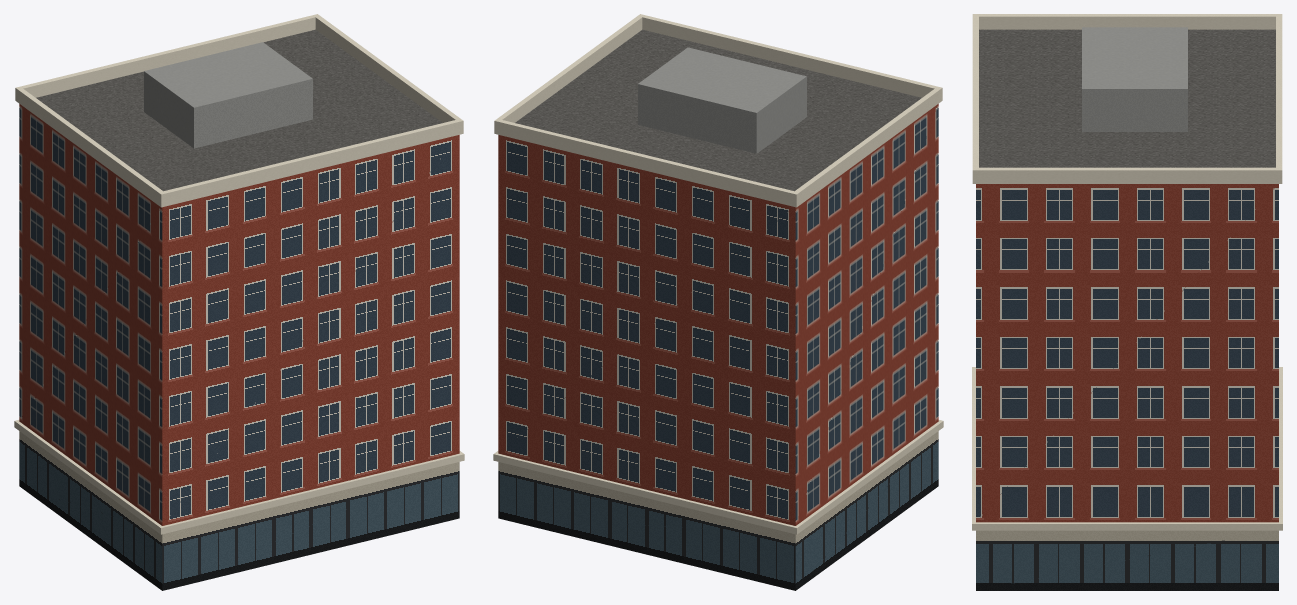
Rendered from brick_midrise.glb.
3 renders of one model, left to right at view 1: azimuth 30°, elevation 25°; view 2: azimuth 150°, elevation 25°; view 3: azimuth 270°, elevation 25°, orthographic. The views are drawn at different scales.
Visible parts, largest first — view 1: brick_midrise; view 2: brick_midrise; view 3: brick_midrise.
Part boxes in pixels (left/top/right/bottom): brick_midrise: left=14, top=14, right=464, bottom=590; brick_midrise: left=493, top=14, right=943, bottom=590; brick_midrise: left=972, top=14, right=1282, bottom=590.
Size of the model in its own units: 24.5 by 32.9 by 20.5.
Materials: 5 (5 with a texture image).
